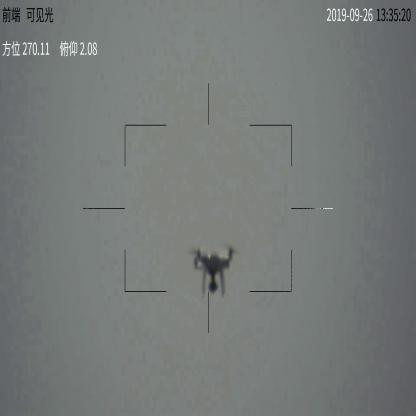uav: (187, 245, 243, 295)
